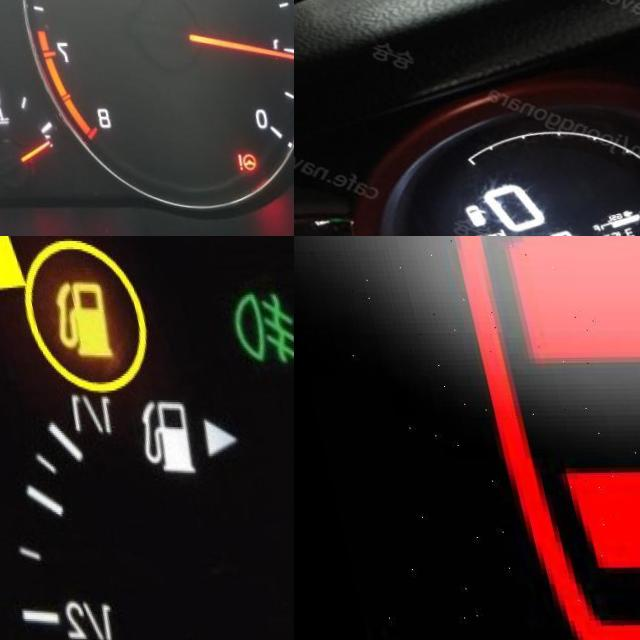FrontFogLight: (226, 289, 294, 364)
Low fuel level: (46, 279, 114, 357)
